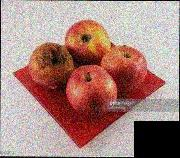red apple: (65, 62, 120, 118), (100, 42, 151, 94), (65, 19, 112, 63)
rotten apple: (28, 41, 74, 91)
